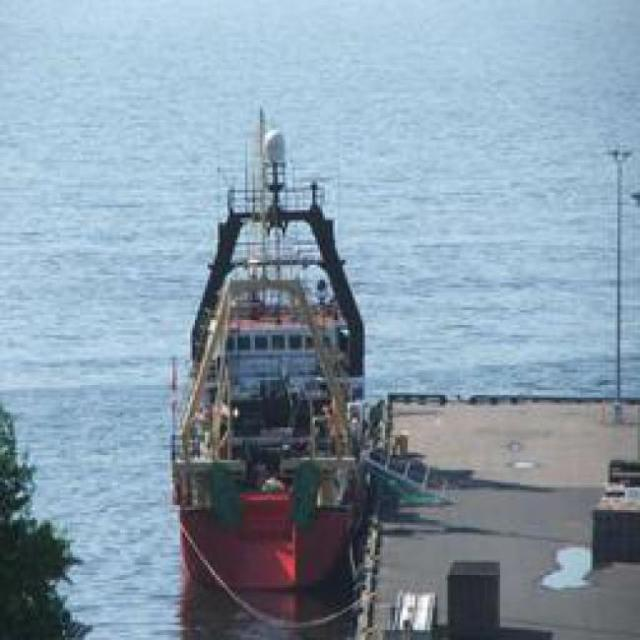boat: (130, 227, 358, 594)
